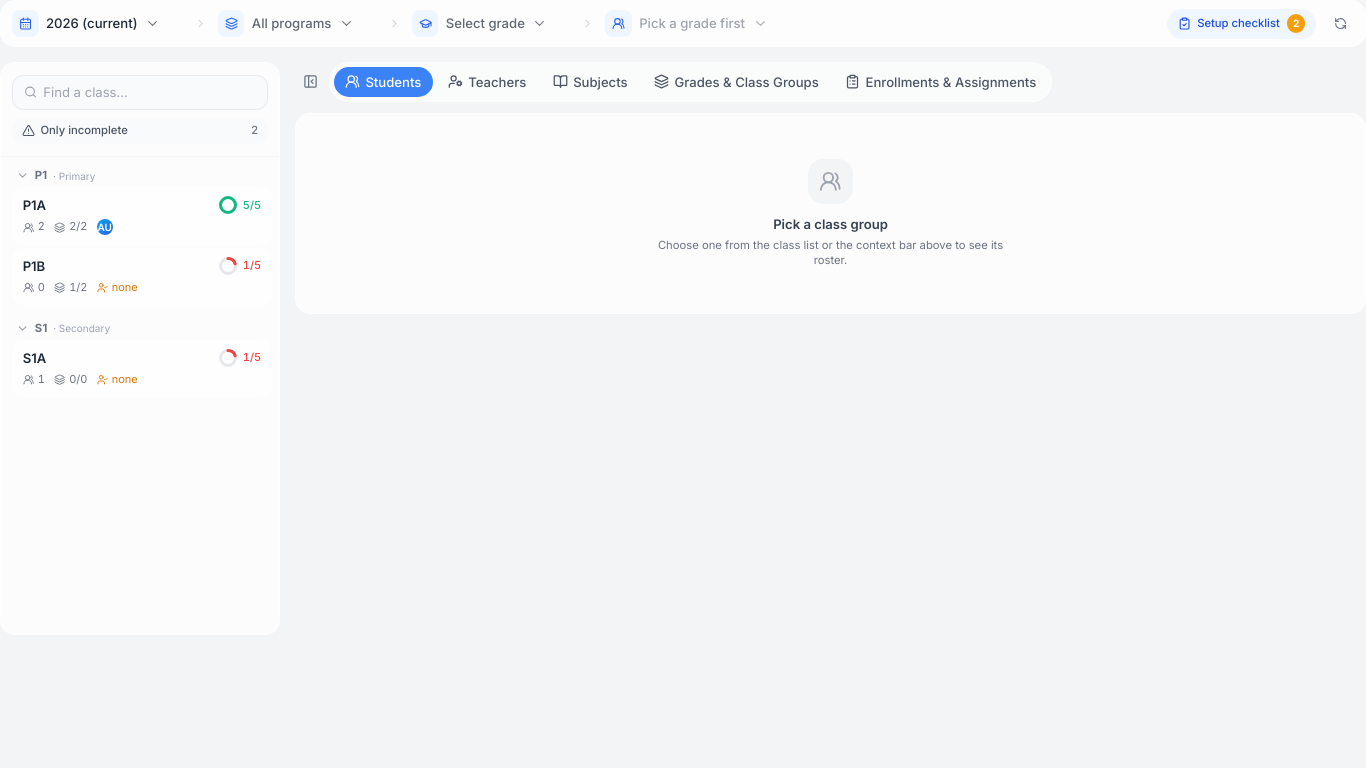
it: Setup checklist › lists only incomplete class groups with their failed checks
Check: the text "P1A" is shown, box [23,196,46,215]
Click the button "Setup checklist 2" at (1242, 24), box [1167,8,1316,38]
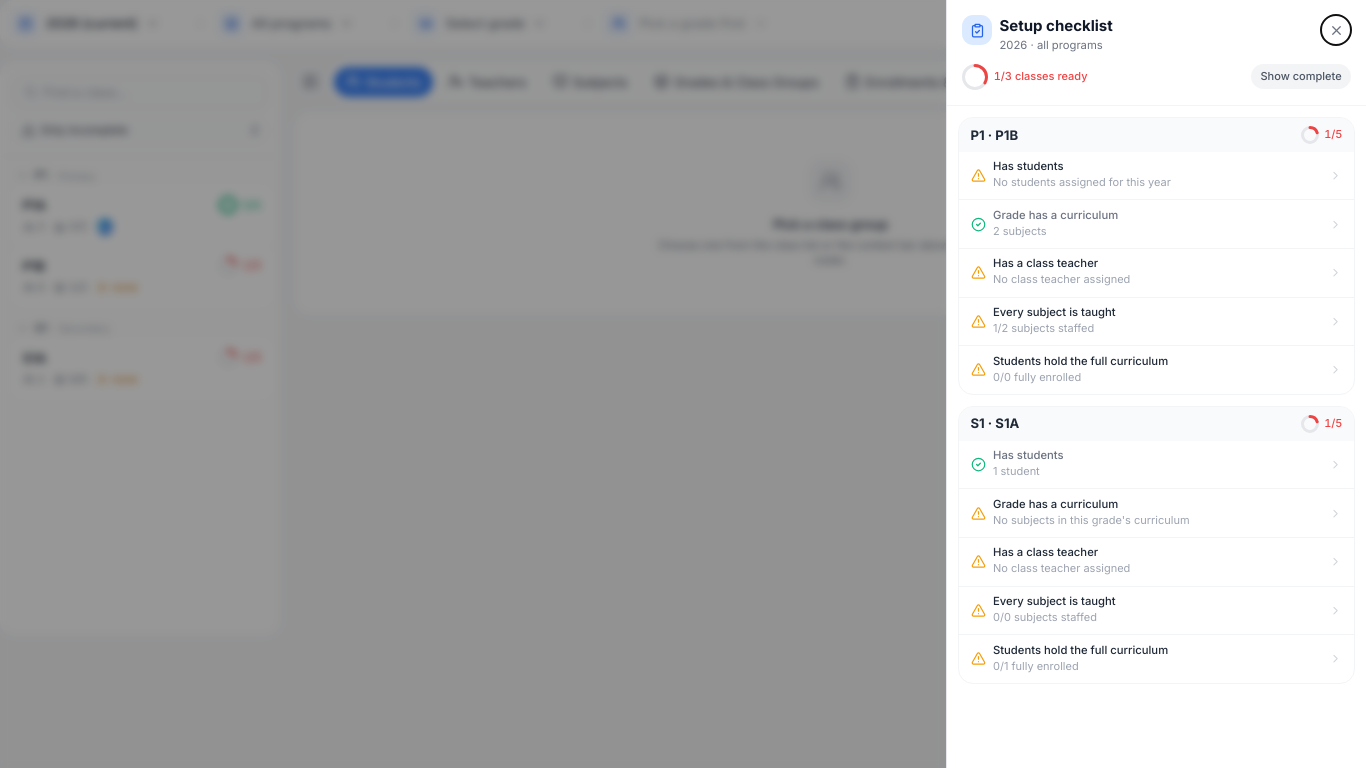
Check: the text "P1 · P1B" is shown, box [970,126,1018,144]
Check: the text "S1 · S1A" is shown, box [970,414,1019,433]
Check: the text "No students assigned for this year" is shown, box [993,175,1171,189]
